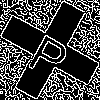P: (25, 25, 77, 81)
